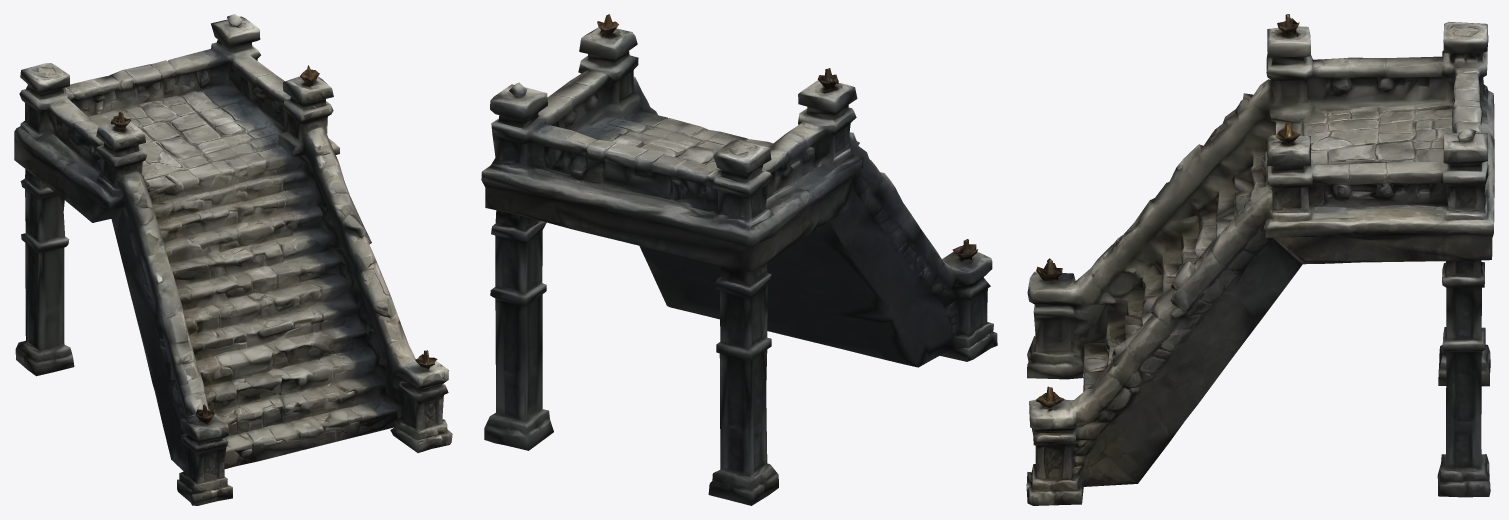
File: dstairs.glb
3 renders of one model, left to right at view 1: azimuth 30°, elevation 25°; view 2: azimuth 150°, elevation 25°; view 3: azimuth 270°, elevation 25°, orthographic. The views are drawn at different scales.
Parts seen in each view (by area): view 1: tripo_node_952cee8a-95a5-4726-9f3f-cc7110d67eec; view 2: tripo_node_952cee8a-95a5-4726-9f3f-cc7110d67eec; view 3: tripo_node_952cee8a-95a5-4726-9f3f-cc7110d67eec.
Boxes of the visible parts, x1=… form: tripo_node_952cee8a-95a5-4726-9f3f-cc7110d67eec: x1=14, y1=14, x2=452, y2=505; tripo_node_952cee8a-95a5-4726-9f3f-cc7110d67eec: x1=481, y1=14, x2=997, y2=505; tripo_node_952cee8a-95a5-4726-9f3f-cc7110d67eec: x1=1026, y1=14, x2=1494, y2=505.
Size of the model in its own units: 0.7571 by 0.855 by 0.9986.
1 material, 1 textured.
